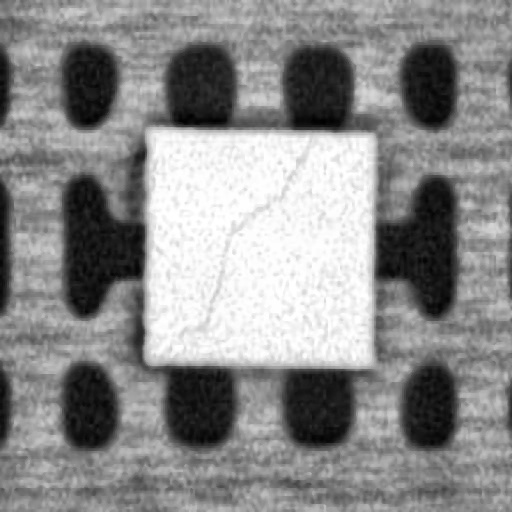DIE_CRACK: (196, 135, 314, 324)
